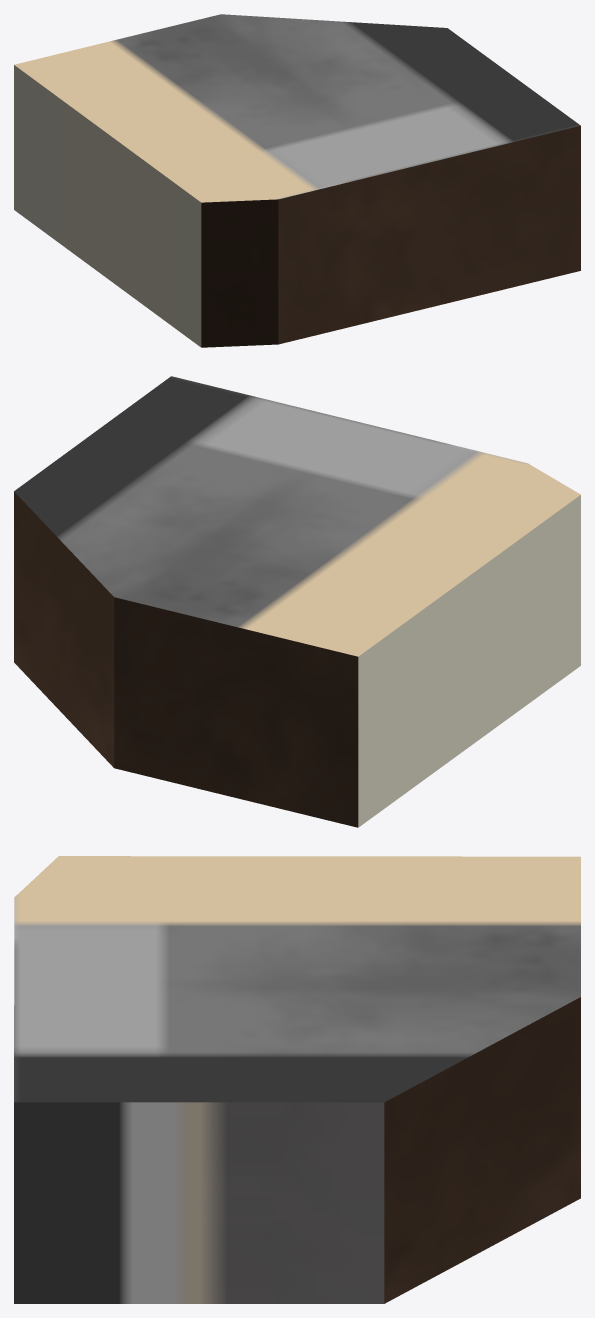
The model's file is M_3W_2F_building_parts4.fbx.
The picture shows the model from 3 angles, top to bottom: view 1: azimuth 30°, elevation 25°; view 2: azimuth 150°, elevation 25°; view 3: azimuth 270°, elevation 25°; orthographic projection. The views are drawn at different scales.
Visible parts, largest first — view 1: Object057; view 2: Object057; view 3: Object057.
Part boxes in pixels (x1,y1,x2,y2): Object057: (14,14,580,347); Object057: (14,376,580,827); Object057: (14,856,580,1303).
Size of the model in its own units: 248 by 94.63 by 241.
